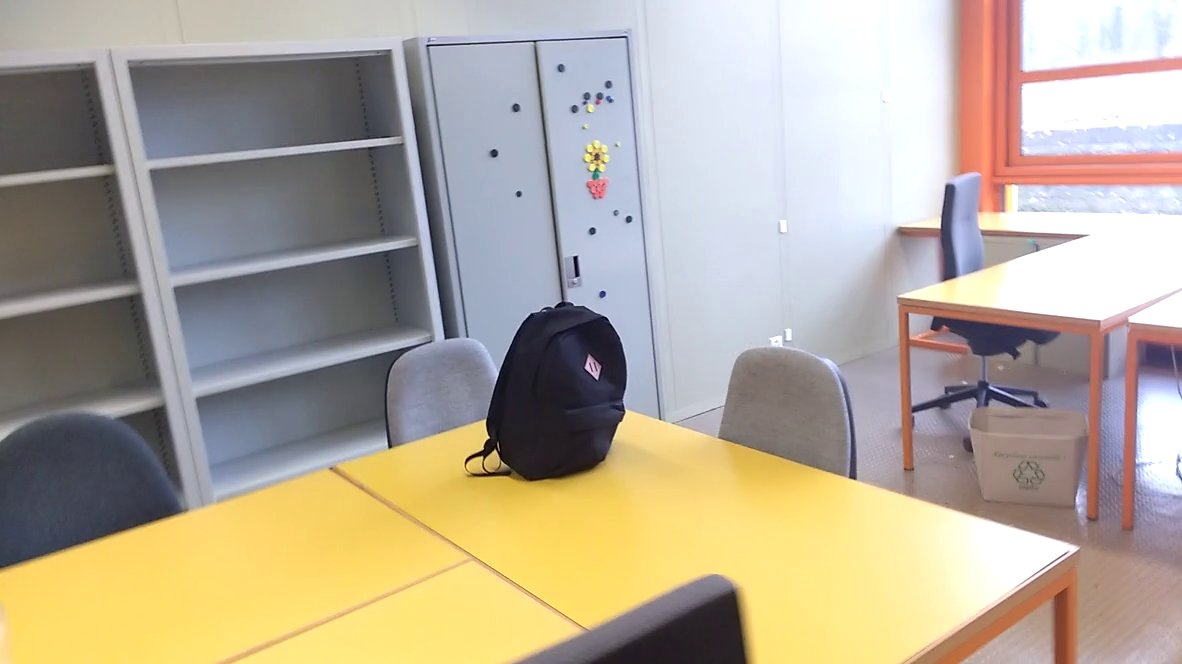bag: (461, 296, 631, 484)
box: (956, 396, 1098, 512)
chair: (906, 164, 1055, 451), (1, 402, 190, 573), (711, 341, 867, 499), (380, 327, 517, 452)
